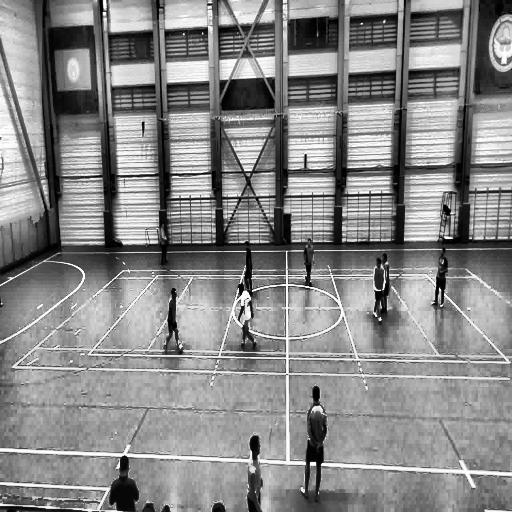ball: (178, 342, 183, 353)
player: (302, 388, 328, 502), (247, 435, 264, 512), (237, 284, 256, 350), (164, 288, 181, 352), (431, 247, 447, 306), (372, 258, 385, 324), (303, 237, 314, 285), (244, 240, 253, 294), (381, 252, 388, 320), (159, 223, 168, 266)
